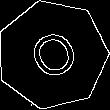O_SE: (21, 23, 84, 87)
